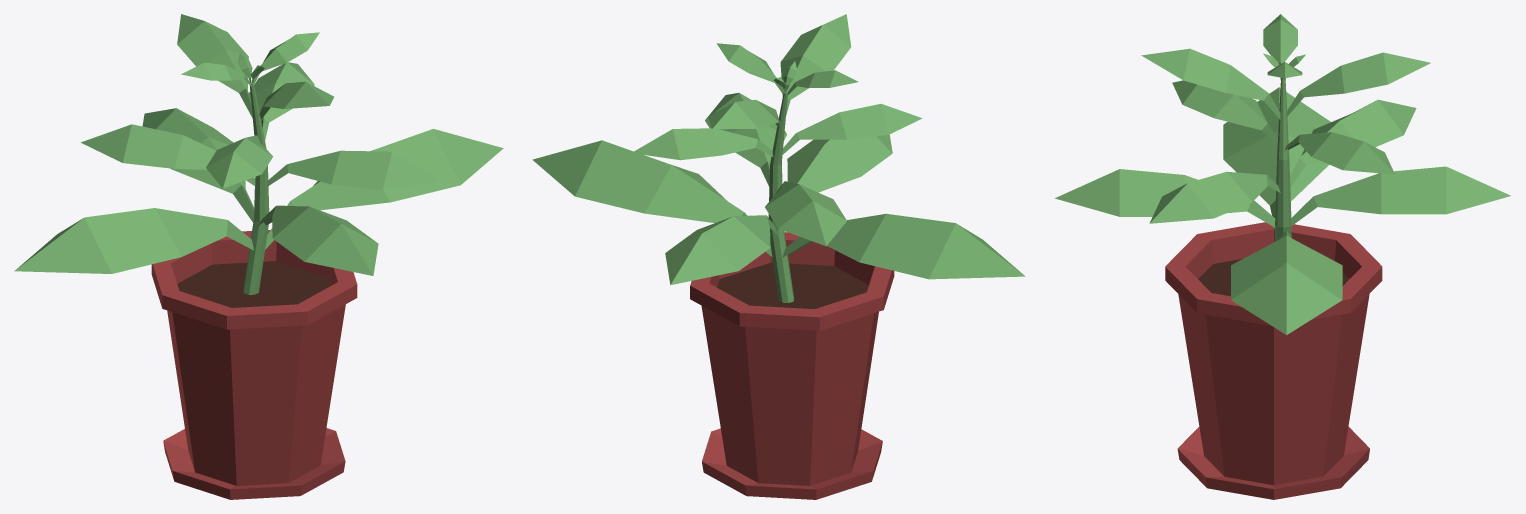
Rendered from Plant Pot.fbx.
3 renders of one model, left to right at view 1: azimuth 30°, elevation 25°; view 2: azimuth 150°, elevation 25°; view 3: azimuth 270°, elevation 25°, orthographic. The views are drawn at different scales.
Visible parts, largest first — view 1: Plant Pot; view 2: Plant Pot; view 3: Plant Pot.
Part boxes in pixels (x1,y1,x2,y2): Plant Pot: (14,14,503,499); Plant Pot: (532,14,1025,499); Plant Pot: (1055,14,1510,499).
Size of the model in its own units: 70.54 by 56.35 by 55.43.
